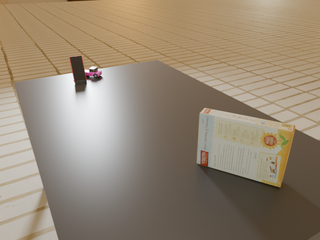box: (197, 108, 295, 187)
phone: (69, 56, 86, 82)
toy_car: (85, 67, 102, 78)
